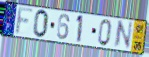0: (31, 10, 51, 39), (97, 19, 113, 48)
1: (75, 15, 85, 44)
6: (56, 13, 71, 41)
F: (14, 6, 36, 37)
N: (112, 20, 134, 50)
